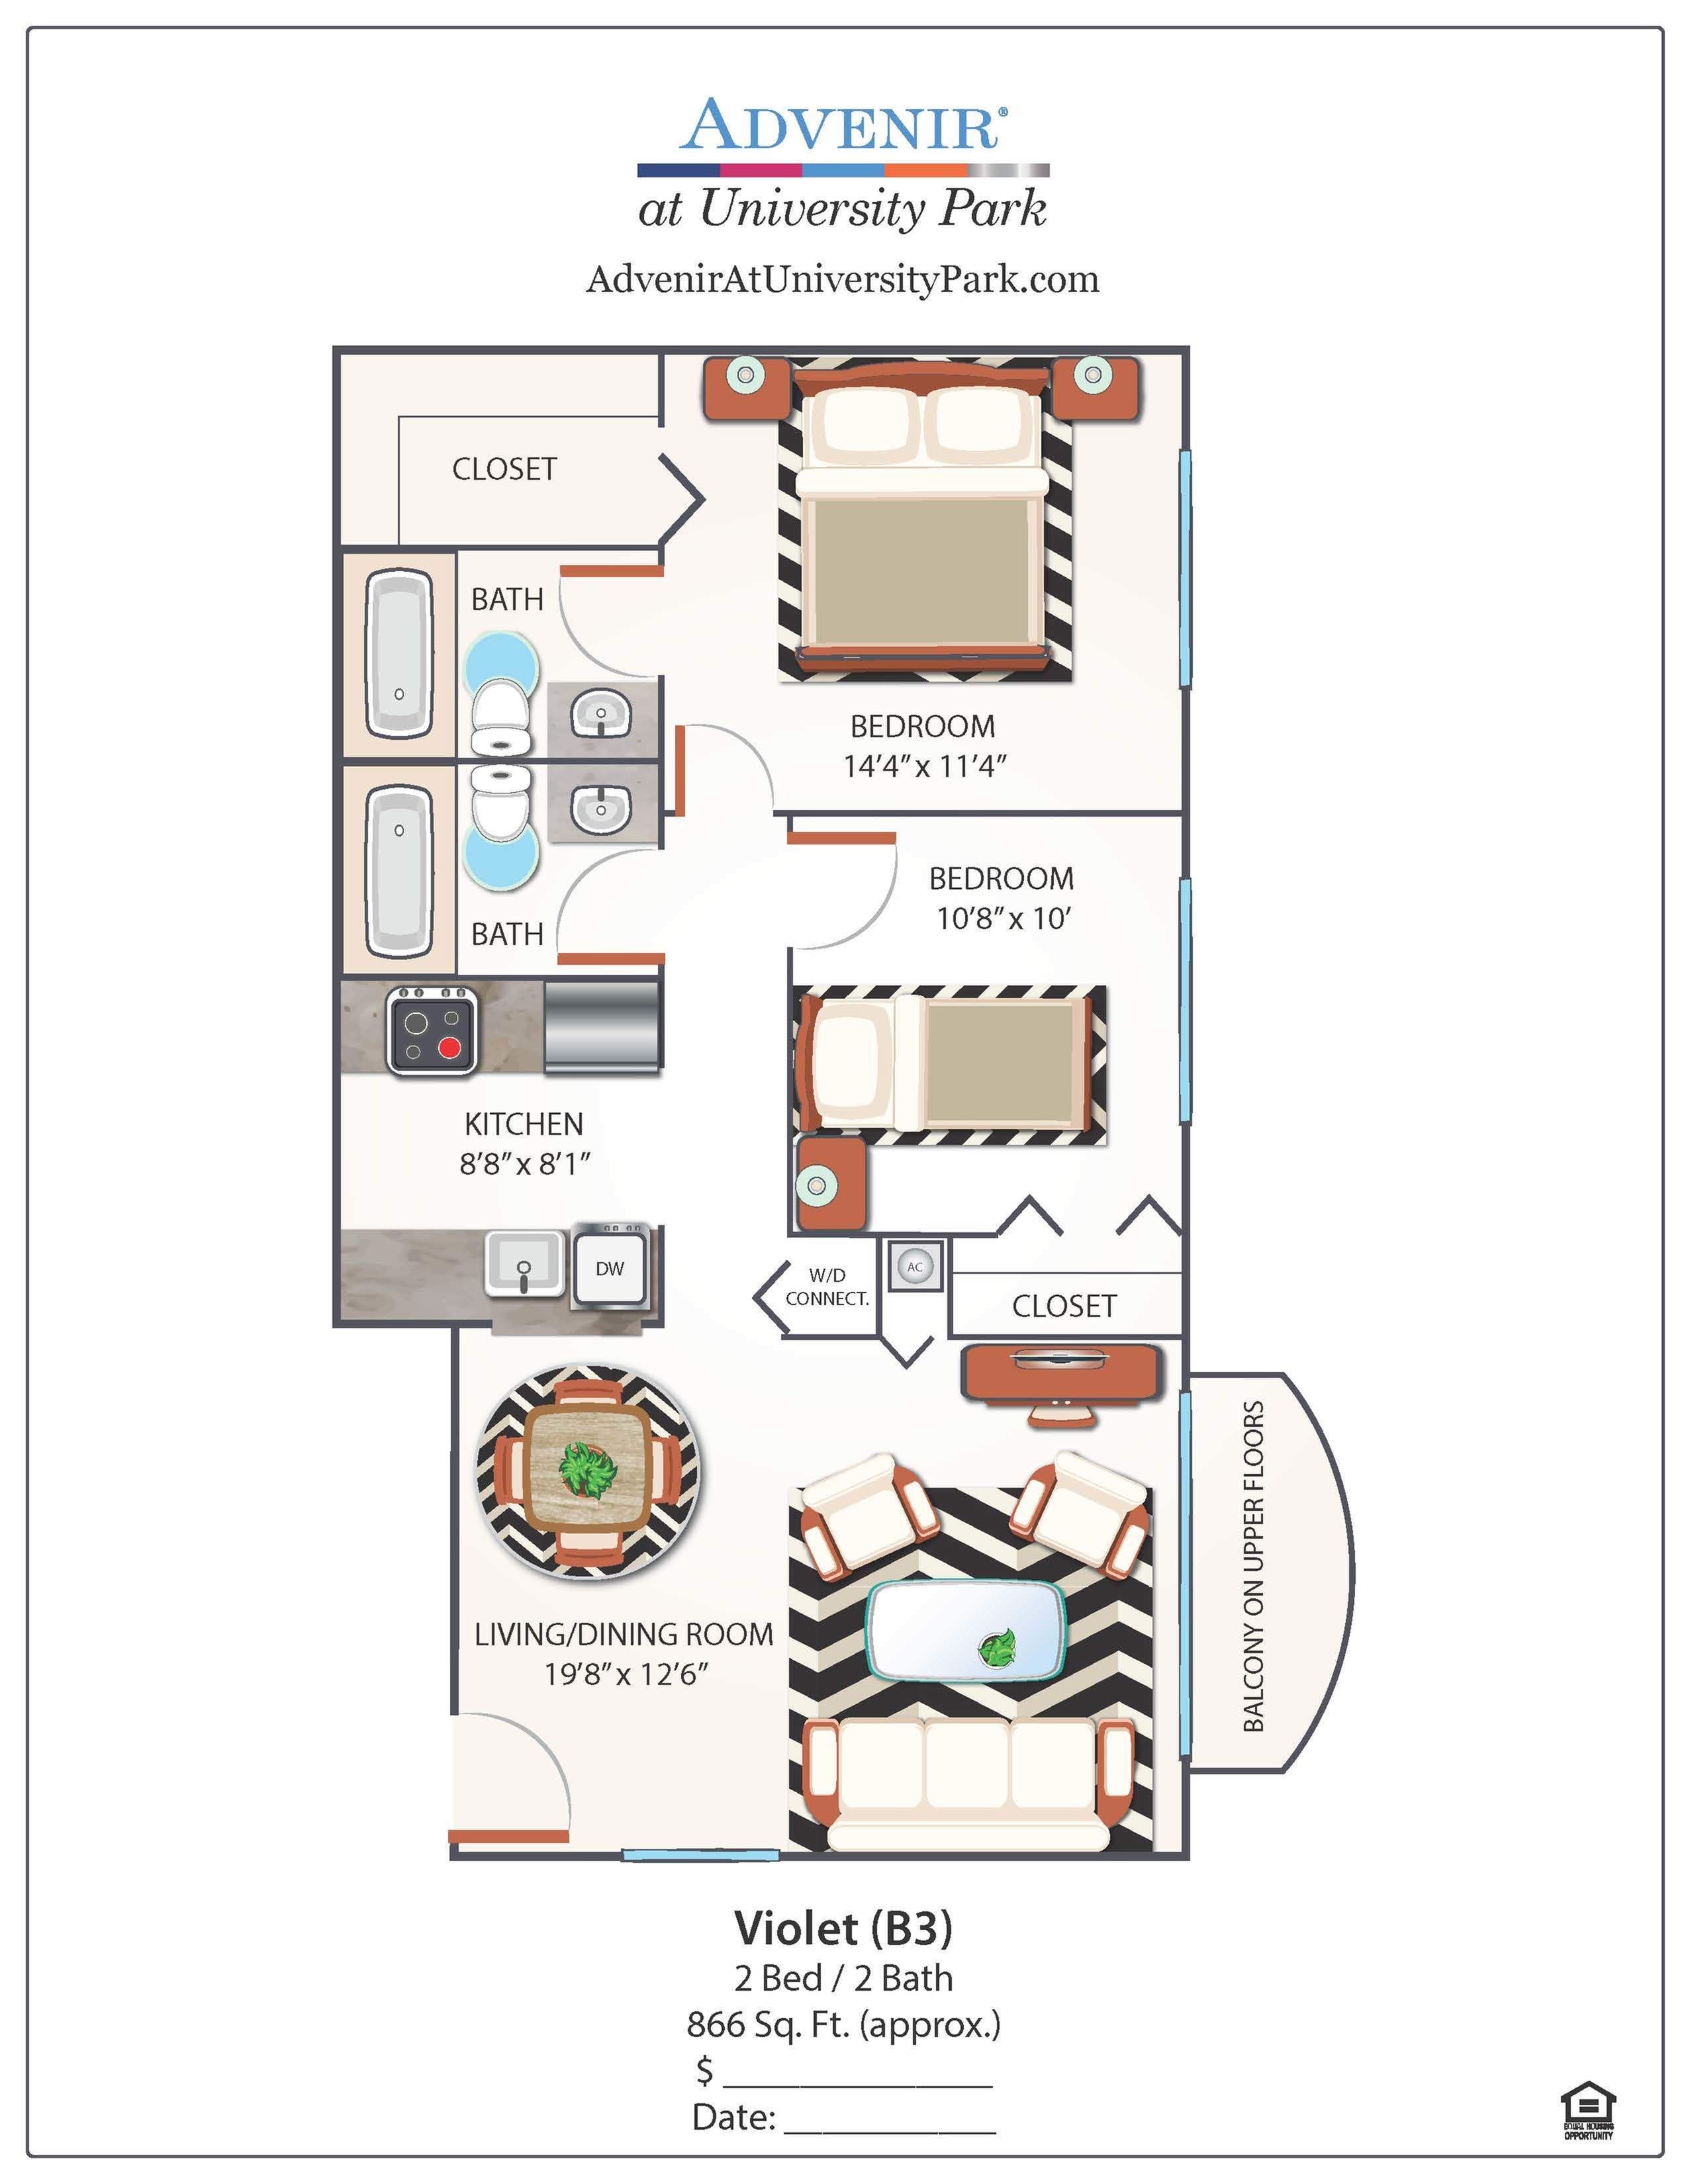door: (459, 1709, 580, 1851), (787, 826, 903, 954), (551, 847, 667, 970), (555, 560, 656, 682), (672, 713, 775, 807)
